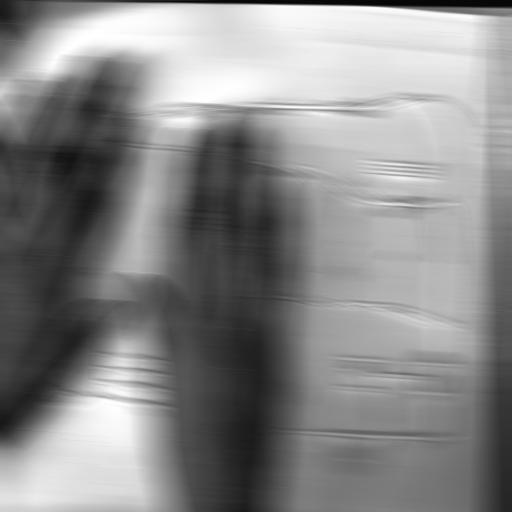bus: (0, 52, 494, 474)
top_right: (485, 11, 510, 26)
